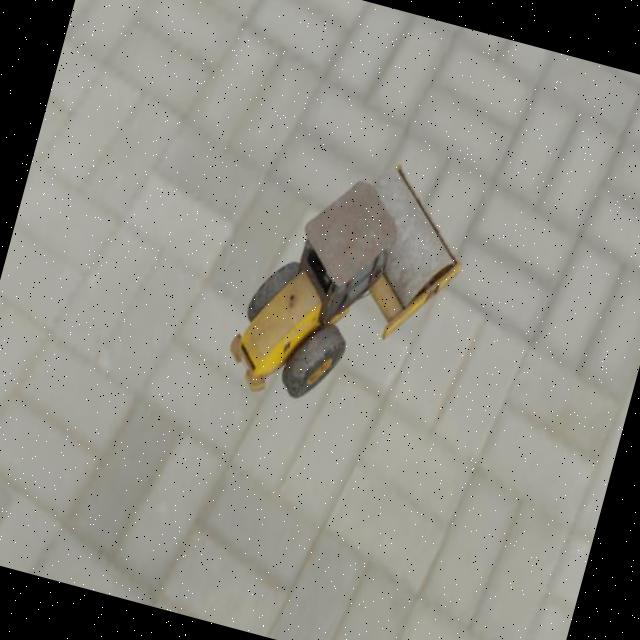Roller: (219, 132, 483, 436)
